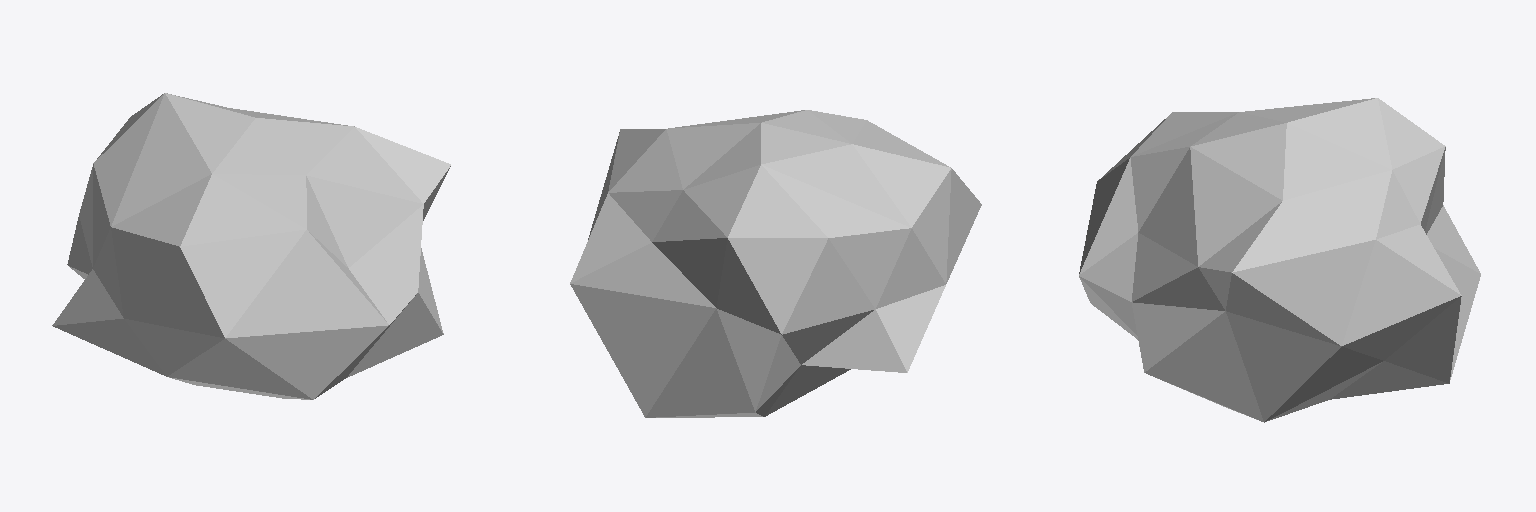
File: bush_2.obj
The picture shows the model from 3 angles: view 1: azimuth 30°, elevation 25°; view 2: azimuth 150°, elevation 25°; view 3: azimuth 270°, elevation 25°; orthographic projection.
Visible parts, largest first — view 1: bush_2; view 2: bush_2; view 3: bush_2.
Boxes of the visible parts, x1=… form: bush_2: x1=52, y1=93, x2=450, y2=399; bush_2: x1=570, y1=110, x2=981, y2=417; bush_2: x1=1079, y1=98, x2=1480, y2=422.
Size of the model in its own units: 1.03 by 0.7888 by 1.05.